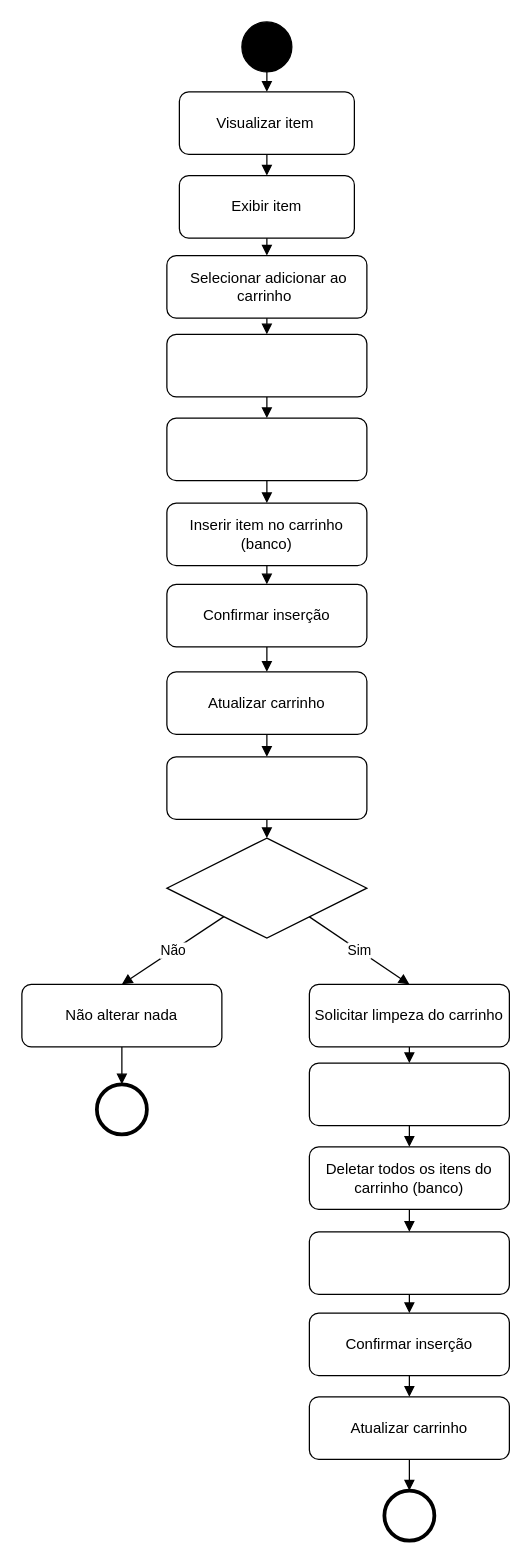
This 531x1564 diagram has some shape labels left out. Each missing label, with the centre of its shape:
Confirmar limpeza: (408,1262)
Enviar item para o sistema: (266,365)
Exibir item adicionado ao carrinho: (266,787)
Processar adição ao carrinho: (266,449)
Processar remoção dos itens: (408,1094)
Usuário deseja limpar o carrinho?: (266,887)
